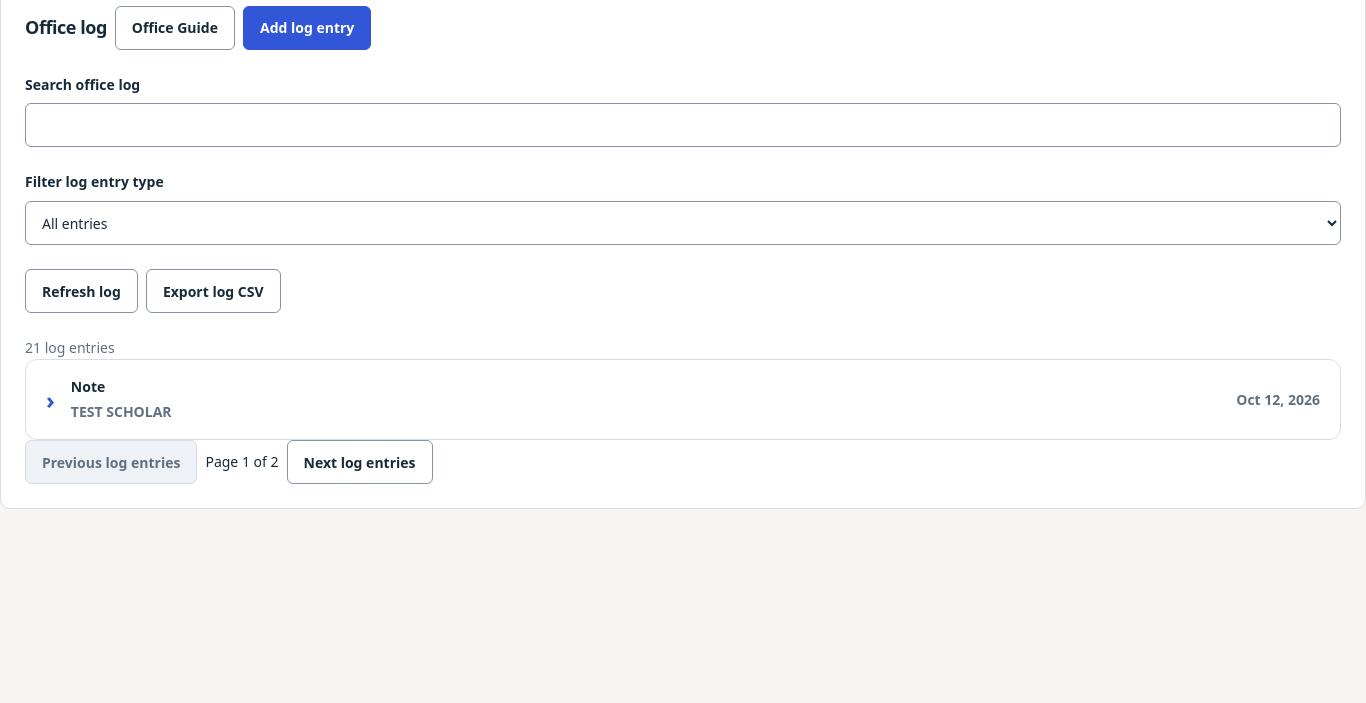
Test: confirmed saves close the editor and show the first unfiltered page of compact entries
Type "old search" into the search field labelled "Search office log" at [683, 125], box [25,103,1341,147]
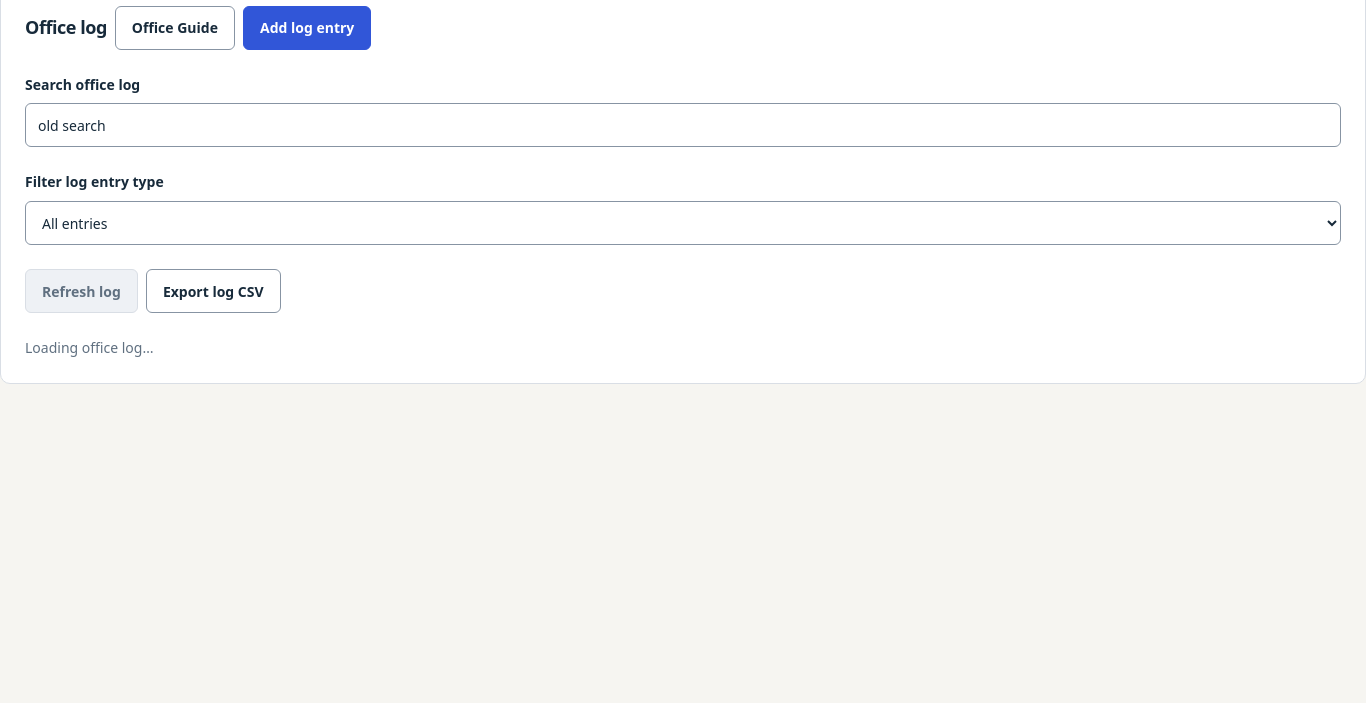
Select "Document transferred" in the dropdown labelled "Filter log entry type" at [683, 223], box [25,201,1341,245]
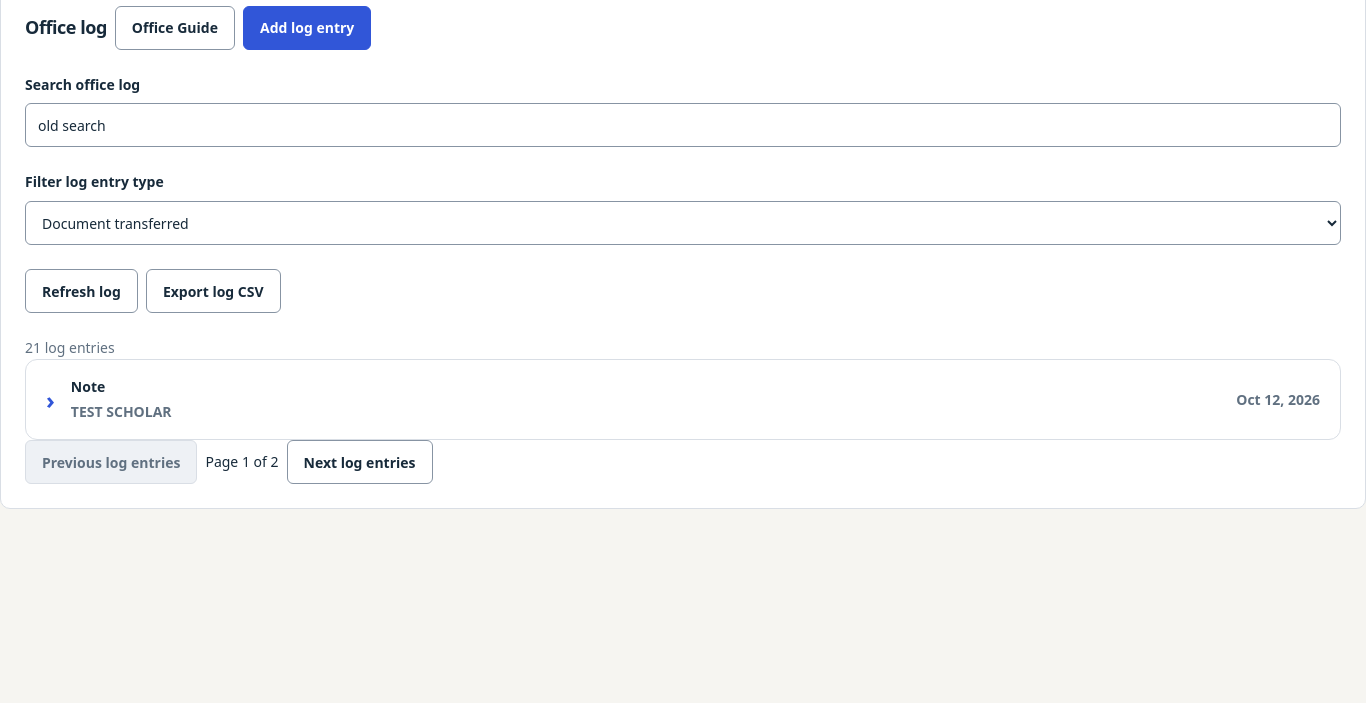
Click the button "Next log entries" at [360, 462], box [286,440,432,484]
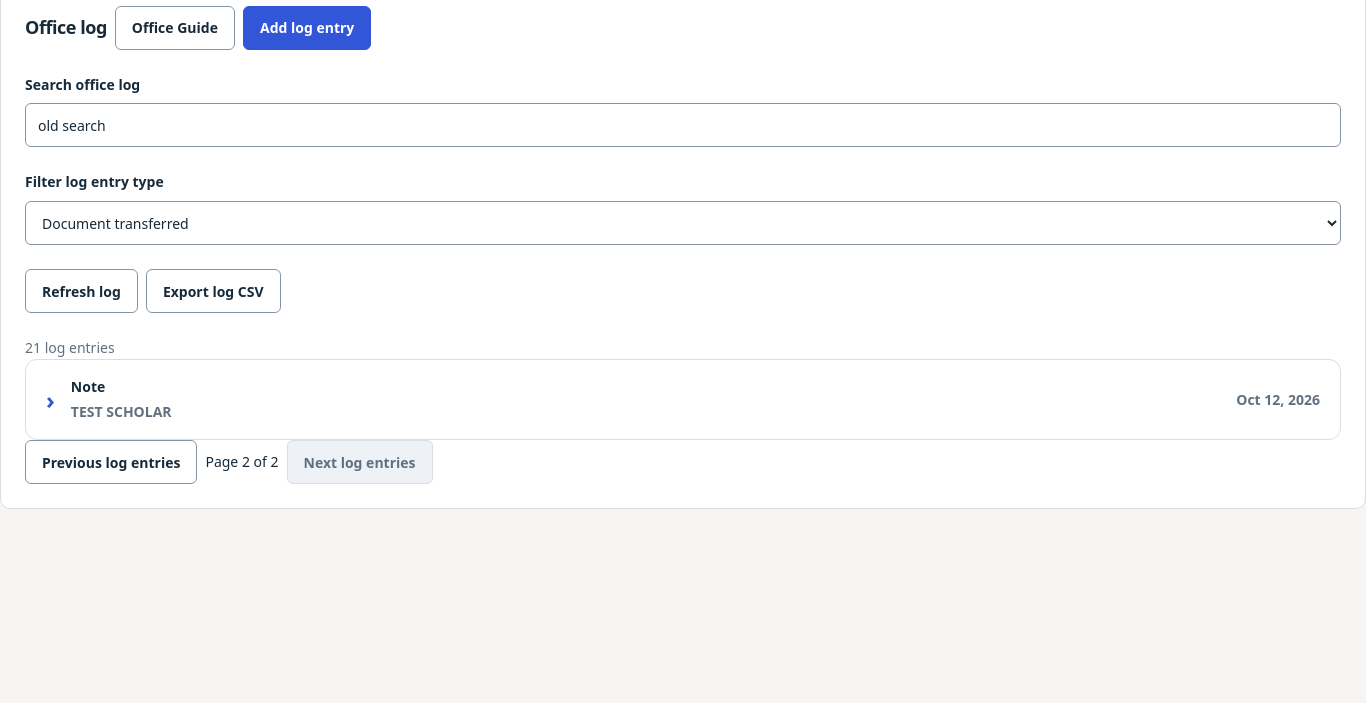
Now the text "Page 2 of 2" is shown, box [205,451,278,473]
Click the button "Add log entry" at [307, 28], box [243,6,371,50]
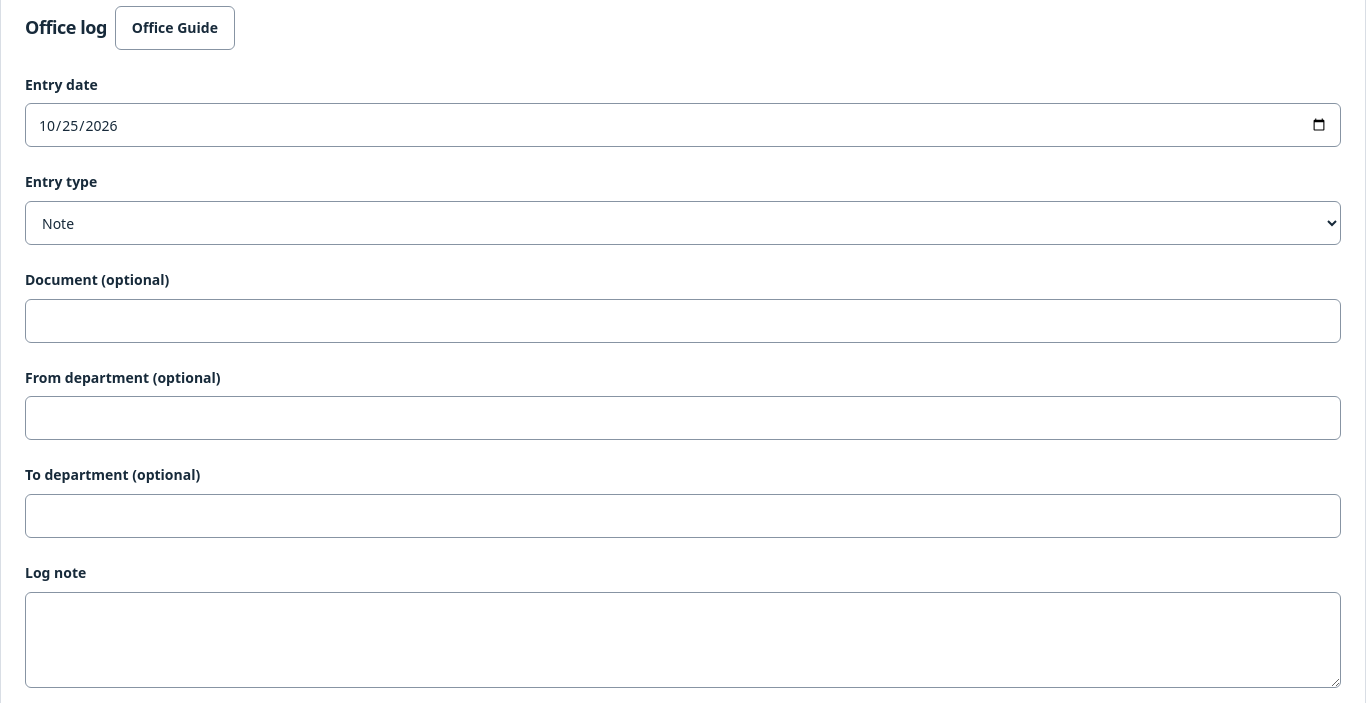
Type "new confirmed entry" into the text box labelled "Log note" at [683, 640], box [25,592,1341,688]
(page scrolled)
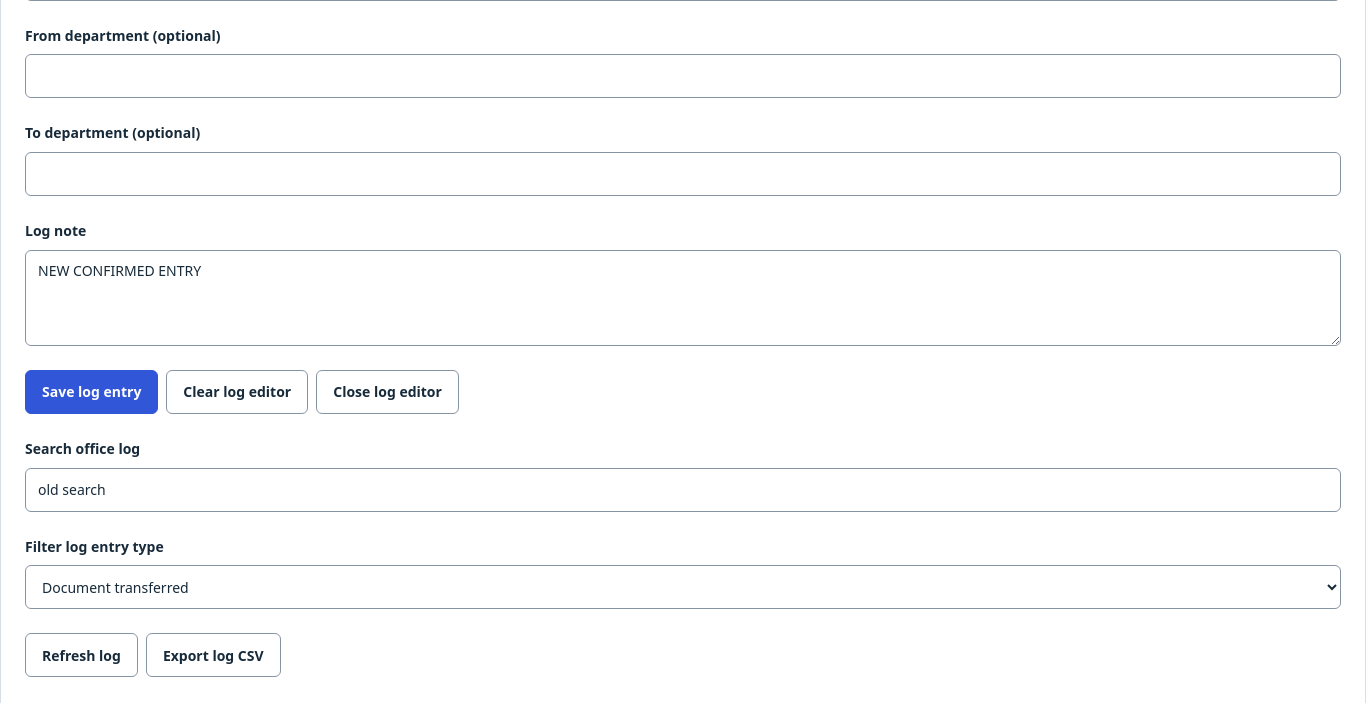
Click the button "Save log entry" at [92, 392], box [25,370,158,414]
(page scrolled)
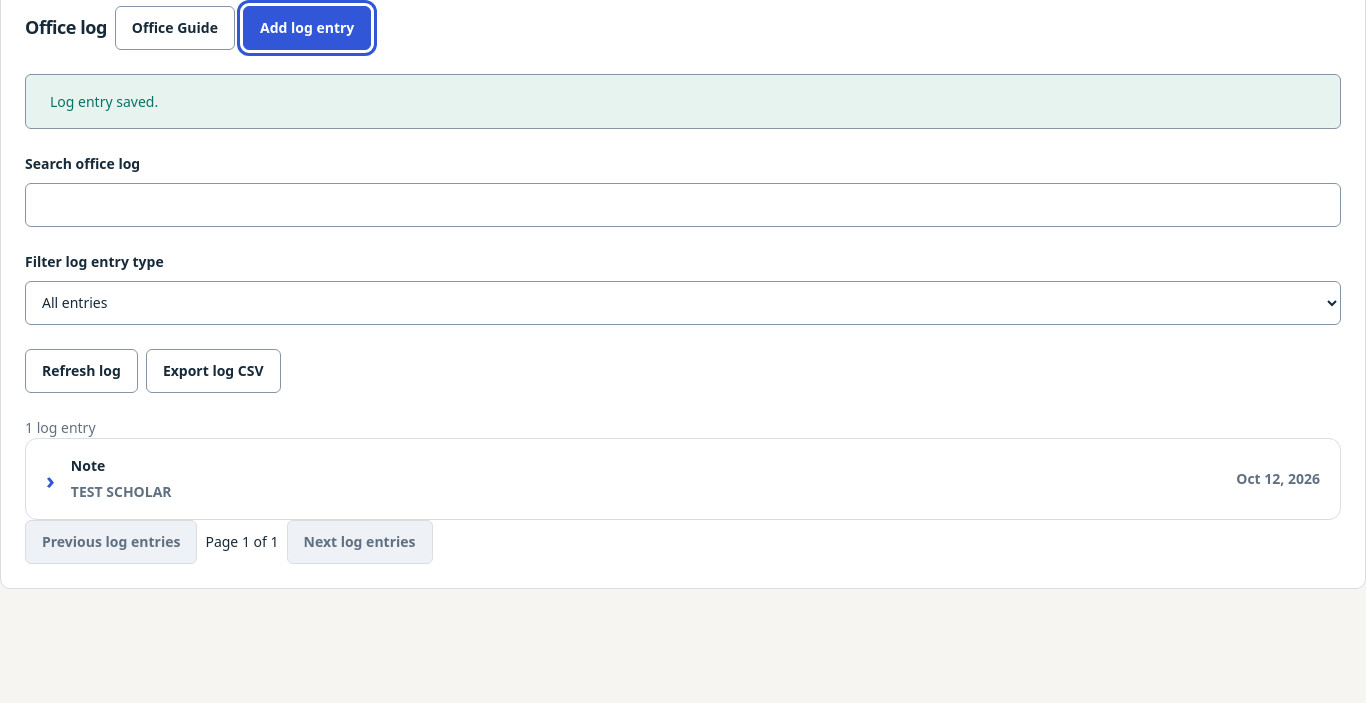
Now the text "Log entry saved." is shown, box [25,74,1341,129]
Now the search field labelled "Search office log" is empty, box [25,183,1341,227]
